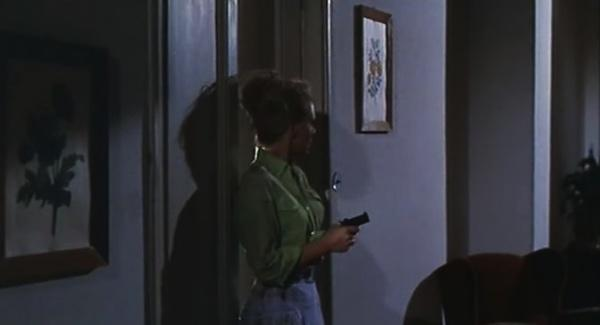Gun: (340, 211, 370, 245)
